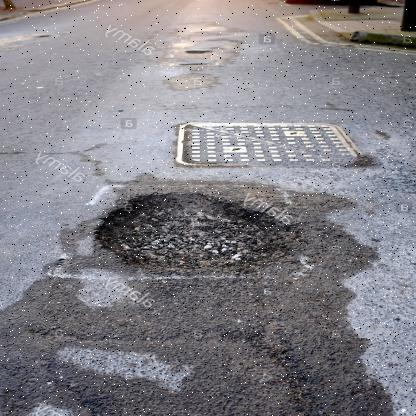pothole: (93, 190, 280, 270)
